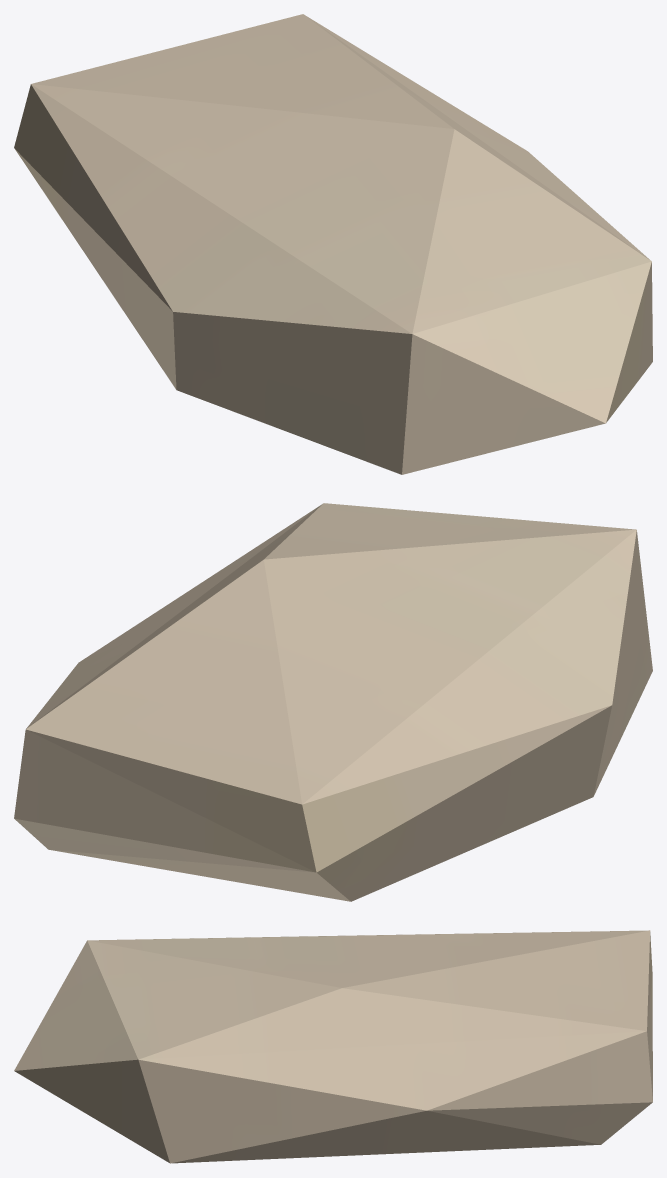
Rendered from OLD_MOUSE.fbx.
3 renders of one model, top to bottom at view 1: azimuth 30°, elevation 25°; view 2: azimuth 150°, elevation 25°; view 3: azimuth 270°, elevation 25°, orthographic. The views are drawn at different scales.
Visible parts, largest first — view 1: OLD_MOUSE; view 2: OLD_MOUSE; view 3: OLD_MOUSE.
Boxes of the visible parts, left/top/right/bottom form: OLD_MOUSE: left=14, top=14, right=652, bottom=474; OLD_MOUSE: left=14, top=503, right=652, bottom=901; OLD_MOUSE: left=14, top=930, right=652, bottom=1163.
Size of the model in its own units: 7.55 by 2.91 by 12.01.
